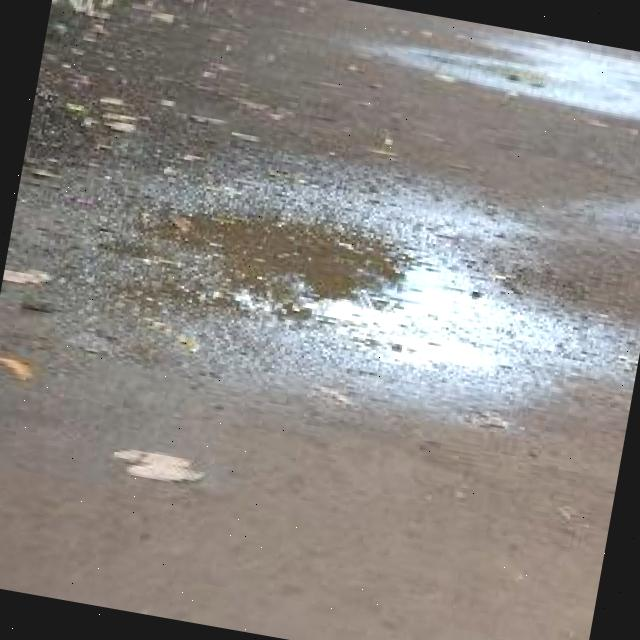stagnation: (138, 185, 394, 335)
